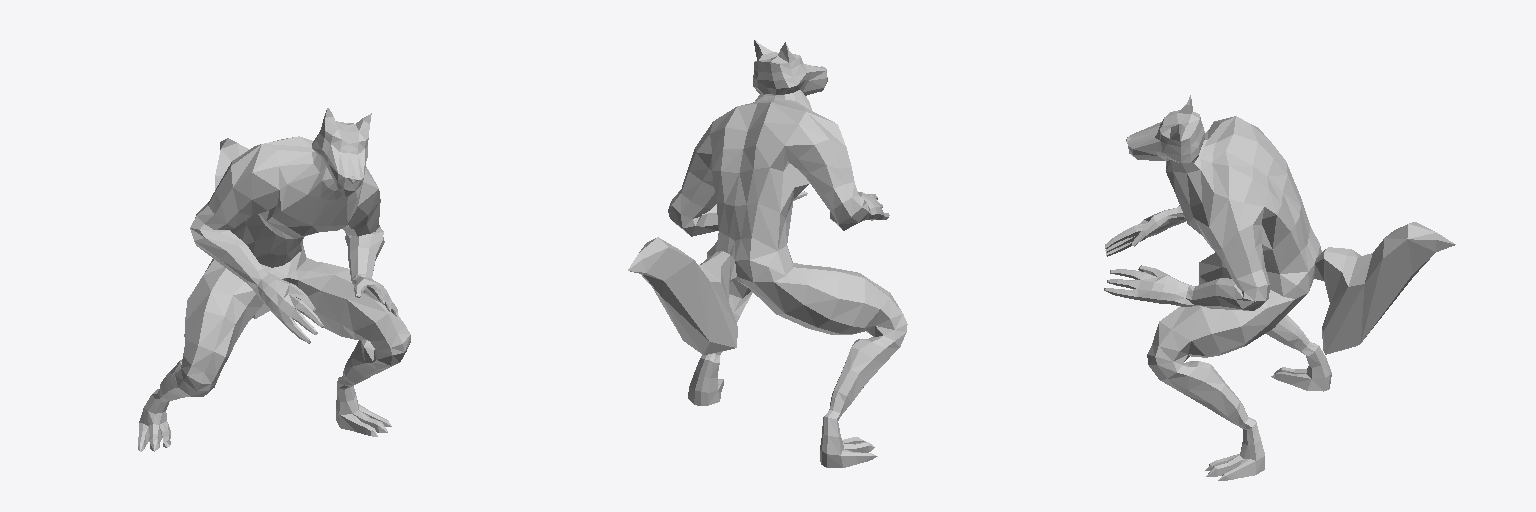
Rendered from WolfAttack(63).obj.
The picture shows the model from 3 angles: view 1: azimuth 30°, elevation 25°; view 2: azimuth 150°, elevation 25°; view 3: azimuth 270°, elevation 25°; orthographic projection.
Parts seen in each view (by area): view 1: Box001; view 2: Box001; view 3: Box001.
Boxes of the visible parts, x1=… form: Box001: x1=138, y1=108, x2=410, y2=451; Box001: x1=628, y1=40, x2=907, y2=467; Box001: x1=1104, y1=95, x2=1455, y2=480.
Bounding box in the file's own units: 81.91 × 122 × 111.